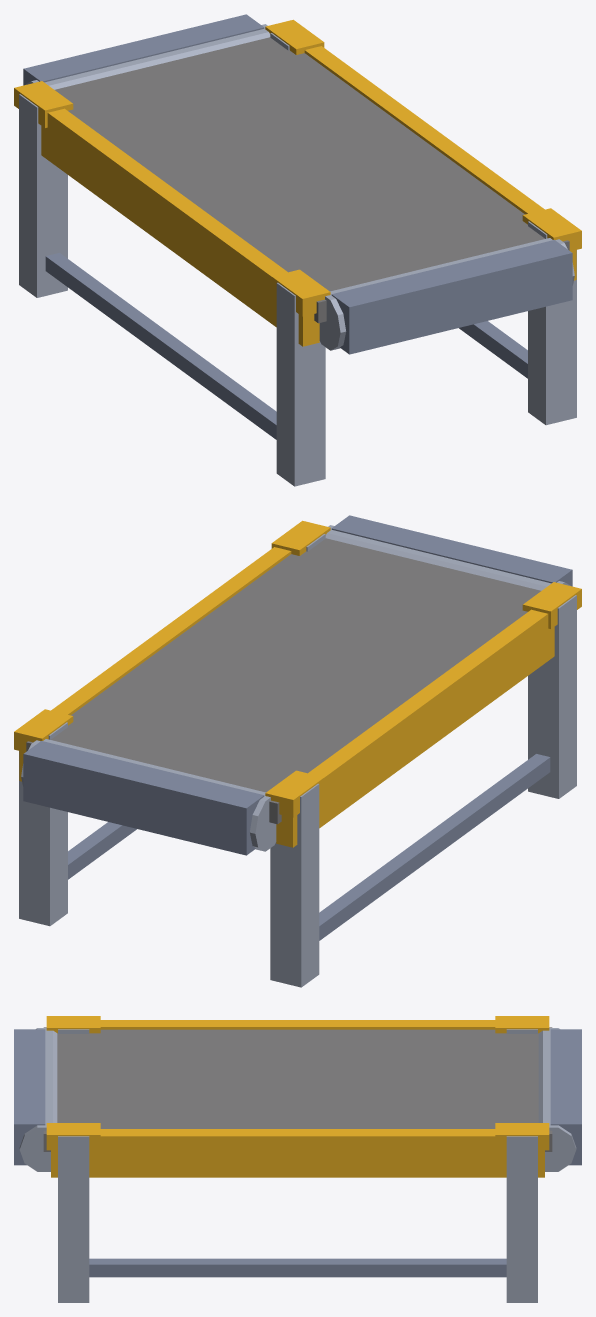
Rendered from conveyor.glb.
3 renders of one model, top to bottom at view 1: azimuth 30°, elevation 25°; view 2: azimuth 150°, elevation 25°; view 3: azimuth 270°, elevation 25°, orthographic. The views are drawn at different scales.
Parts seen in each view (by area): view 1: conveyor; view 2: conveyor; view 3: conveyor.
Boxes of the visible parts, x1,y1,x2,y2 form: conveyor: [14, 14, 581, 486]; conveyor: [14, 515, 581, 987]; conveyor: [14, 1016, 581, 1302].
Size of the model in its own units: 1 by 0.65 by 2.
